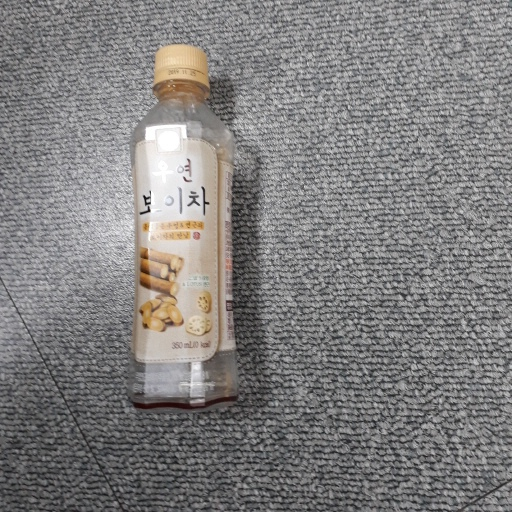Plastic_0: (128, 44, 237, 406)
